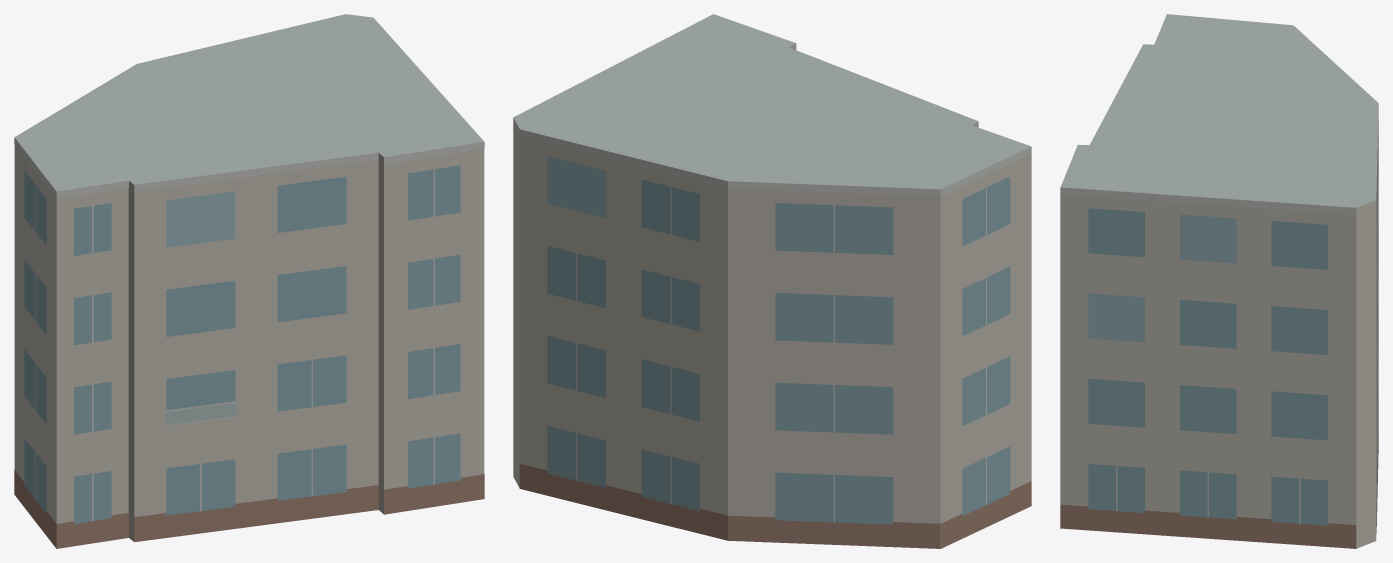
File: survey-upis-33003410.glb
3 views of the same model, side by side, from view 1: azimuth 30°, elevation 25°; view 2: azimuth 150°, elevation 25°; view 3: azimuth 270°, elevation 25° (orthographic). The views are drawn at different scales.
Visible parts, largest first — view 1: survey-upis-33003410.tmp; view 2: survey-upis-33003410.tmp; view 3: survey-upis-33003410.tmp.
Boxes of the visible parts, x1=… form: survey-upis-33003410.tmp: x1=14, y1=14, x2=484, y2=548; survey-upis-33003410.tmp: x1=513, y1=14, x2=1031, y2=548; survey-upis-33003410.tmp: x1=1060, y1=14, x2=1378, y2=548.
Size of the model in its own units: 14.87 by 12.2 by 10.32.
